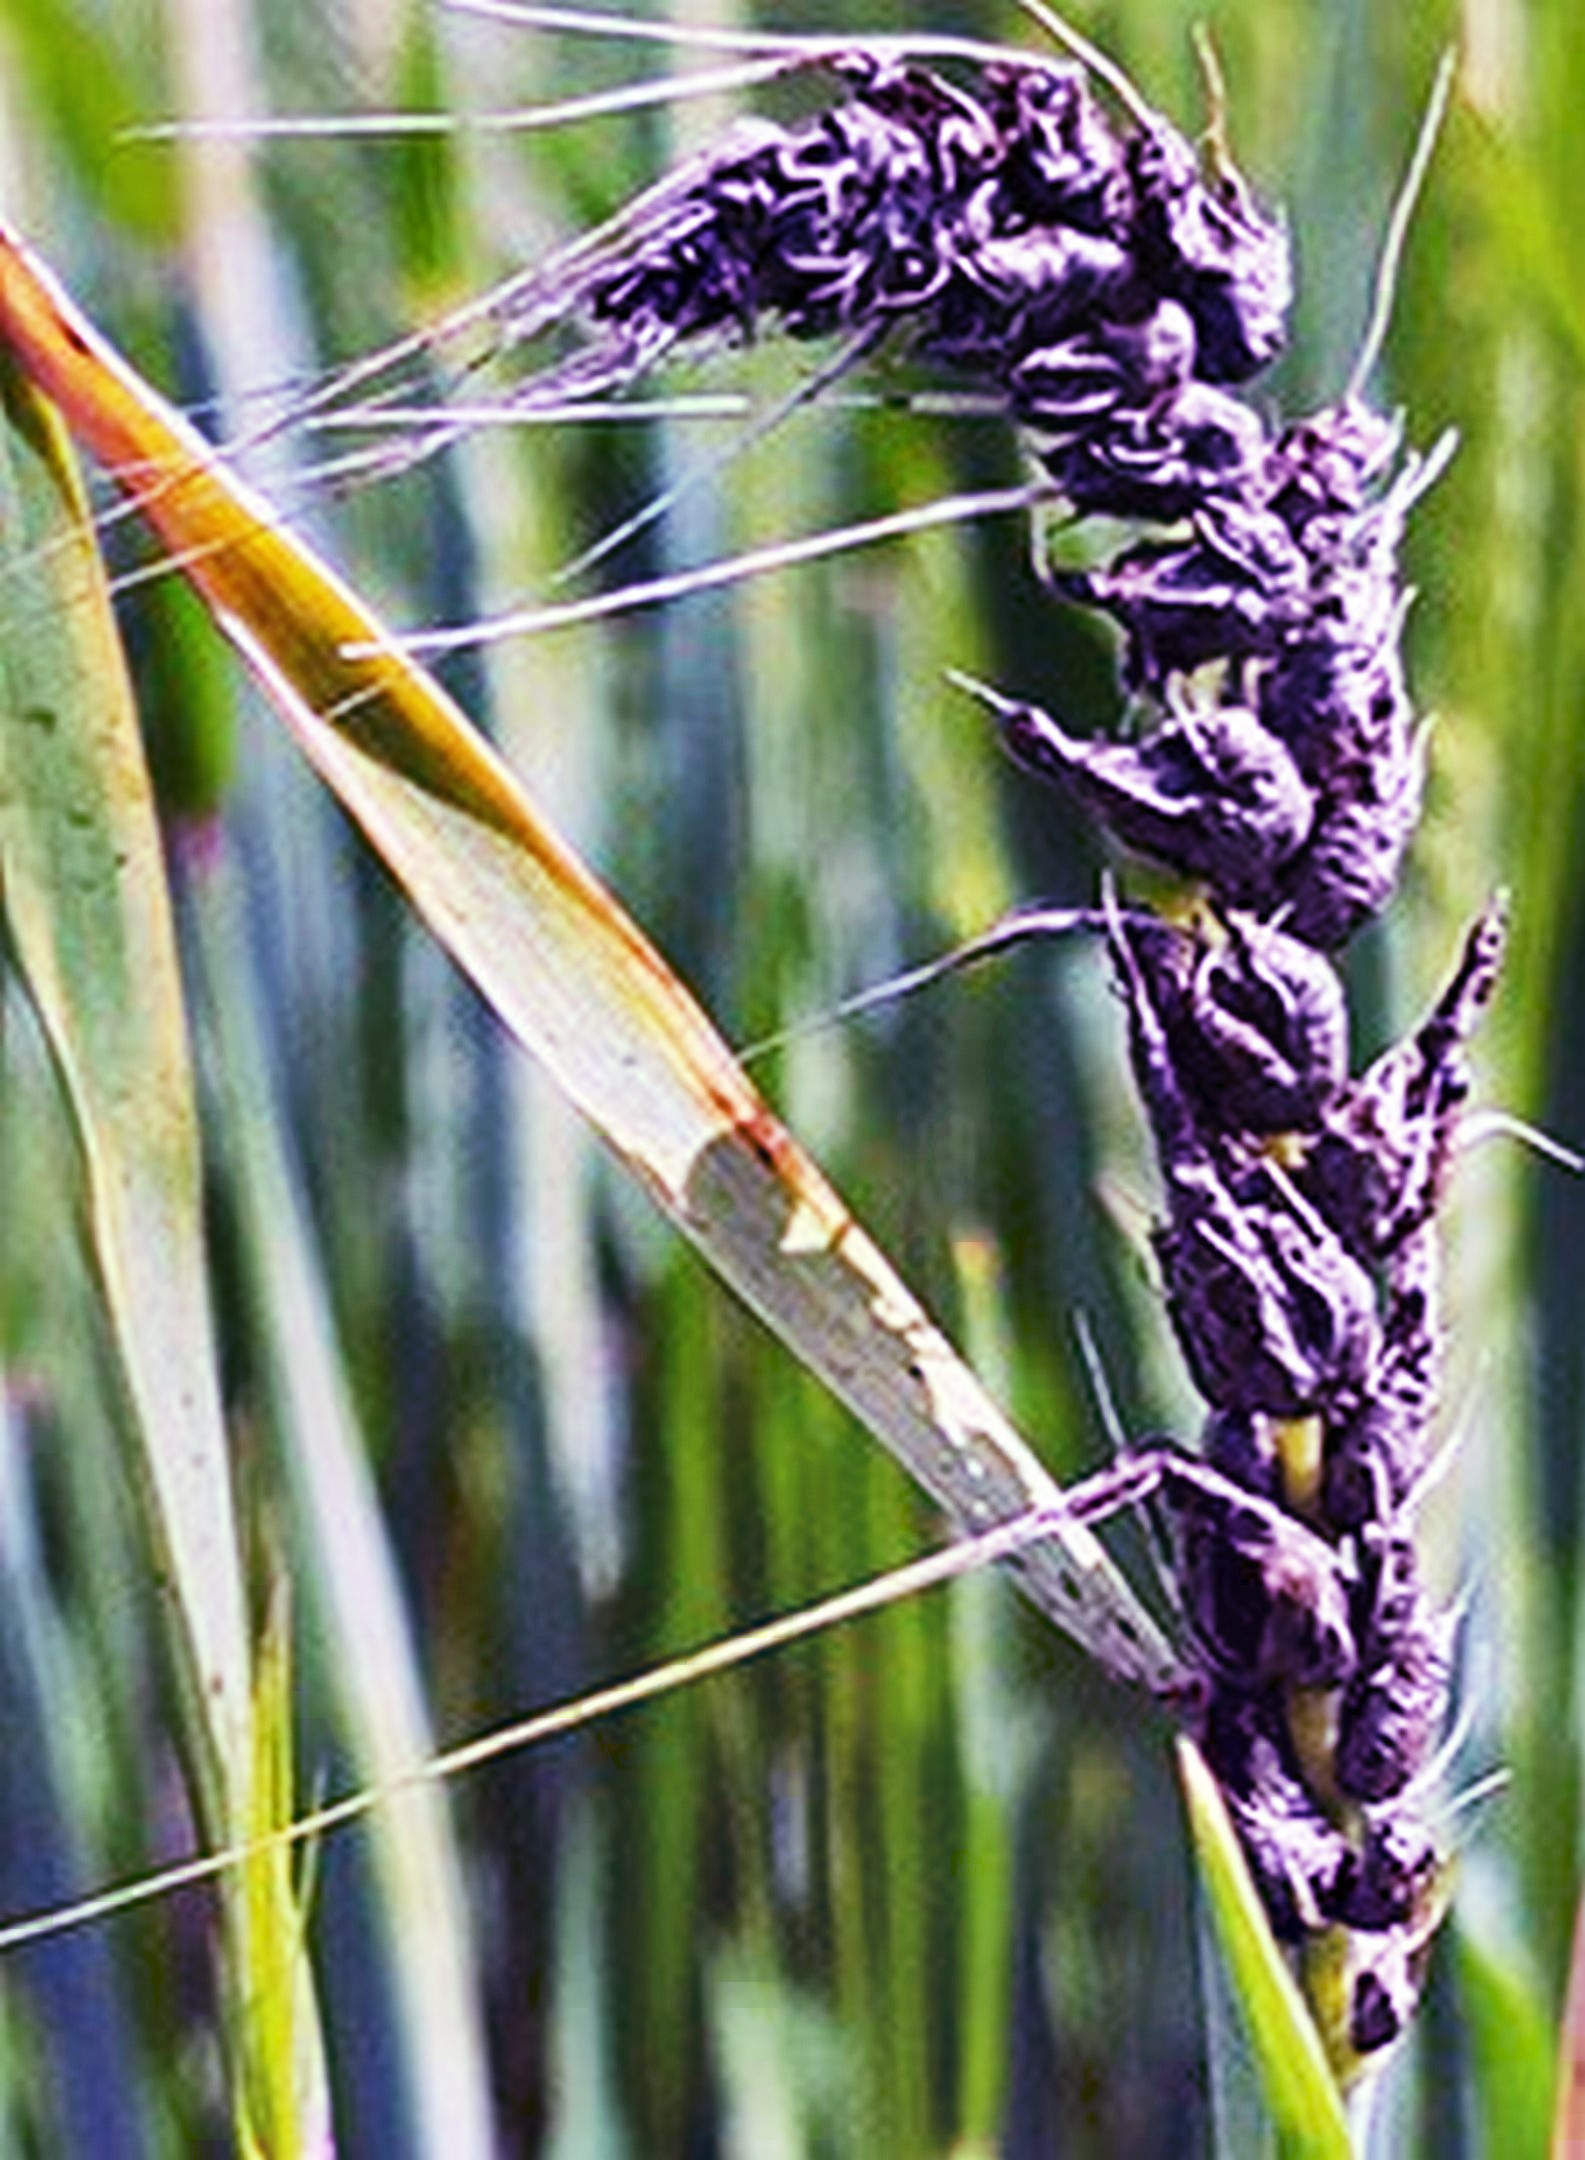Wheat Loose Smut: (450, 52, 1545, 2006)
